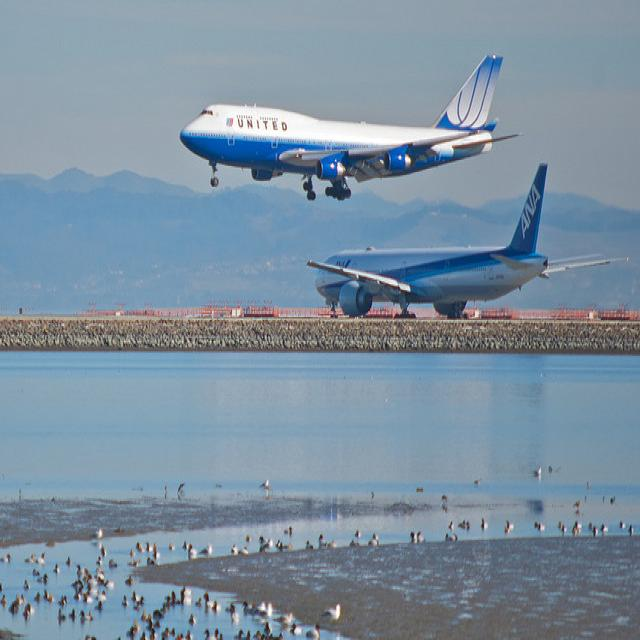airplane: (305, 161, 631, 323), (178, 52, 527, 202)
